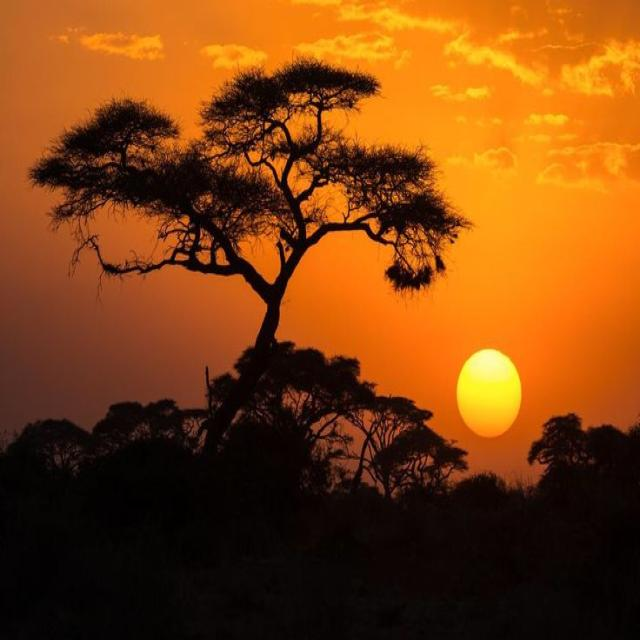Acacia: (37, 80, 447, 422)
